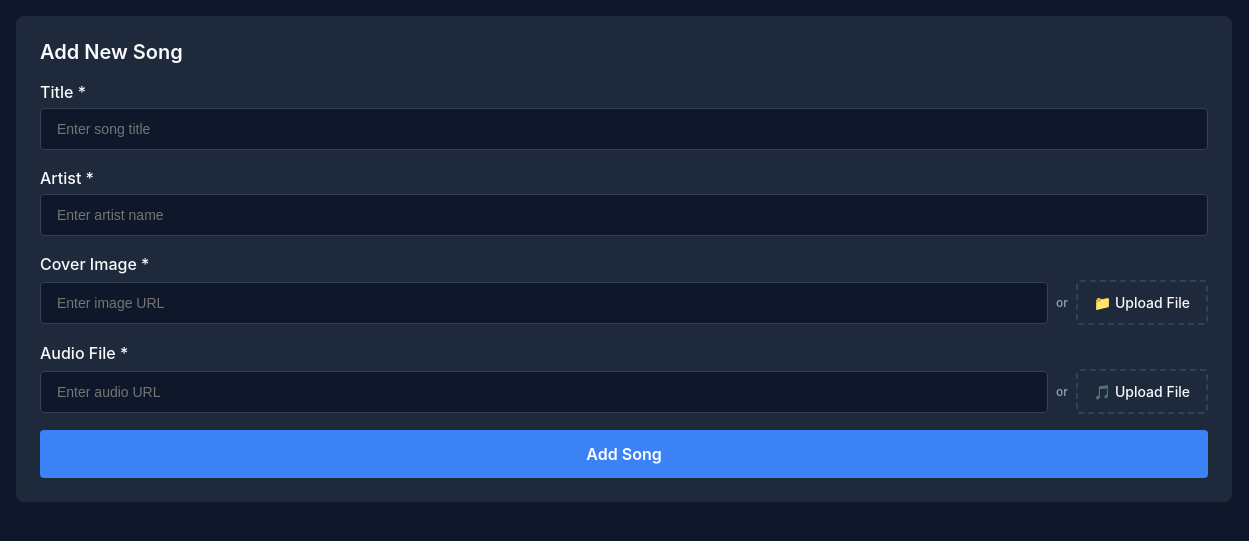
Test: AddSongForm Component › Form Validation - Errors › should show error when both cover URL and file are missing
The image size is (1249, 541).
In the field labelled "Title *": (624, 129) [40,108,1208,150], type "Song"
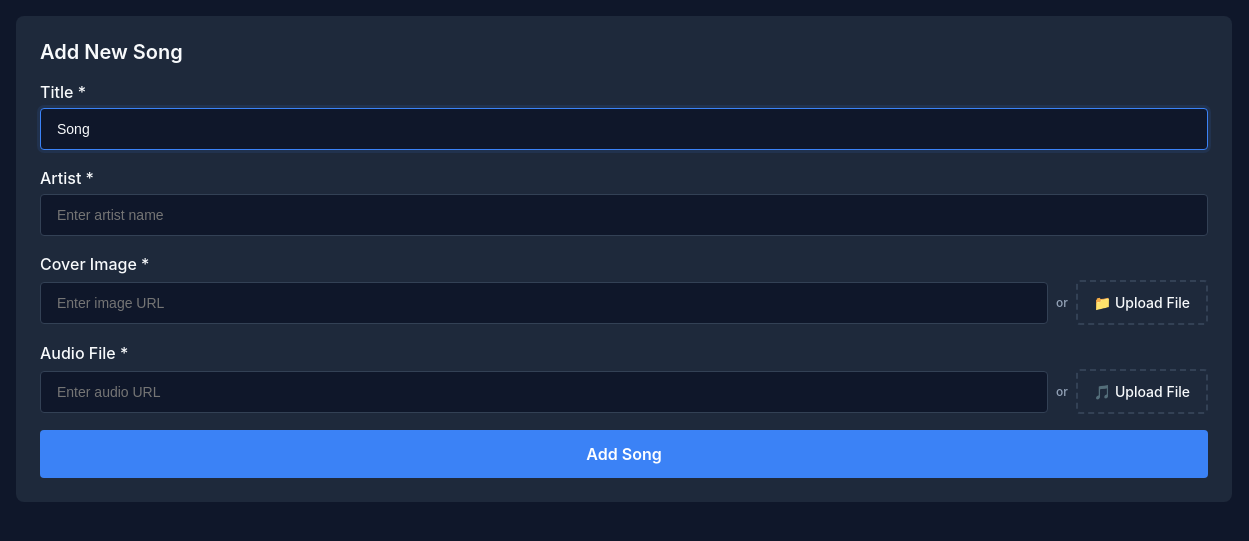
In the field labelled "Artist *": (624, 215) [40,194,1208,236], type "Artist"
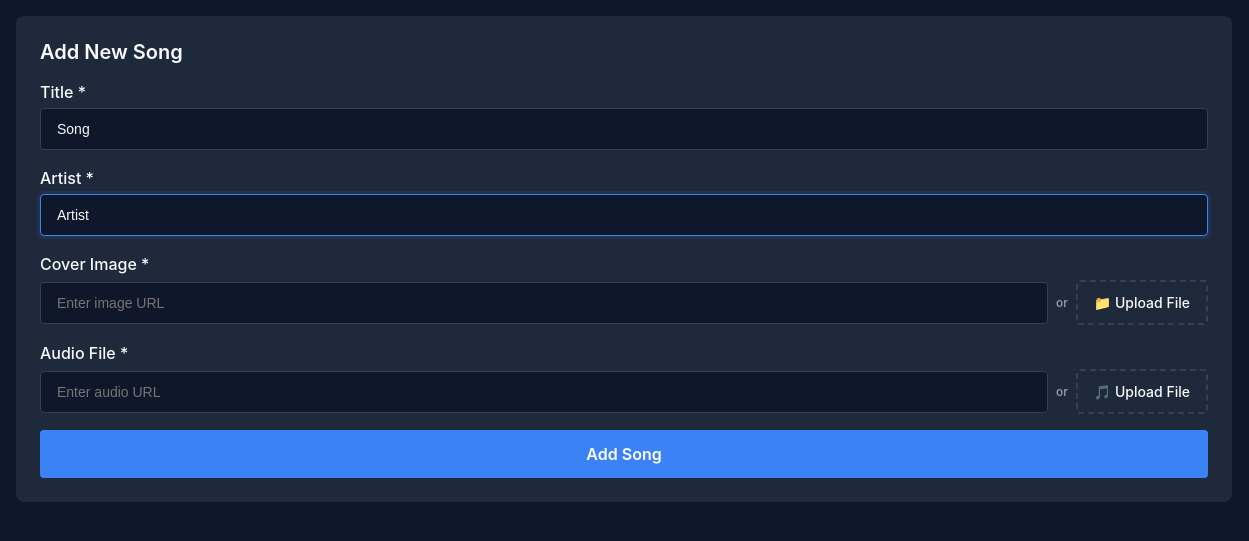
In the field labelled "Audio File *": (544, 392) [40,370,1048,412], type "https://example.com/song.mp3"
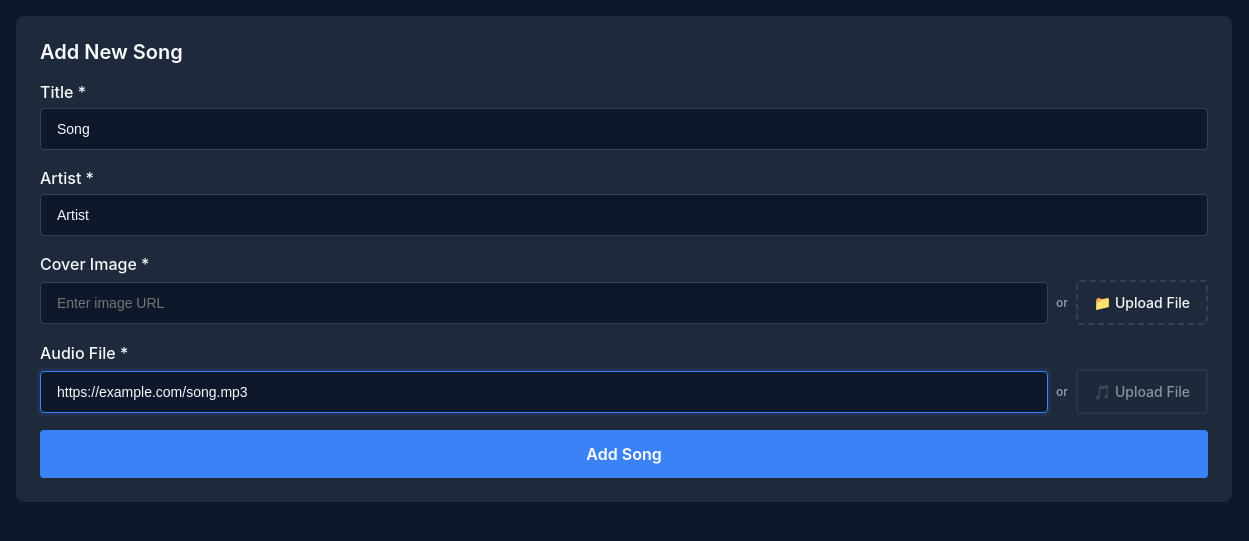
Click the button "Add Song": (624, 454) [40,430,1208,478]
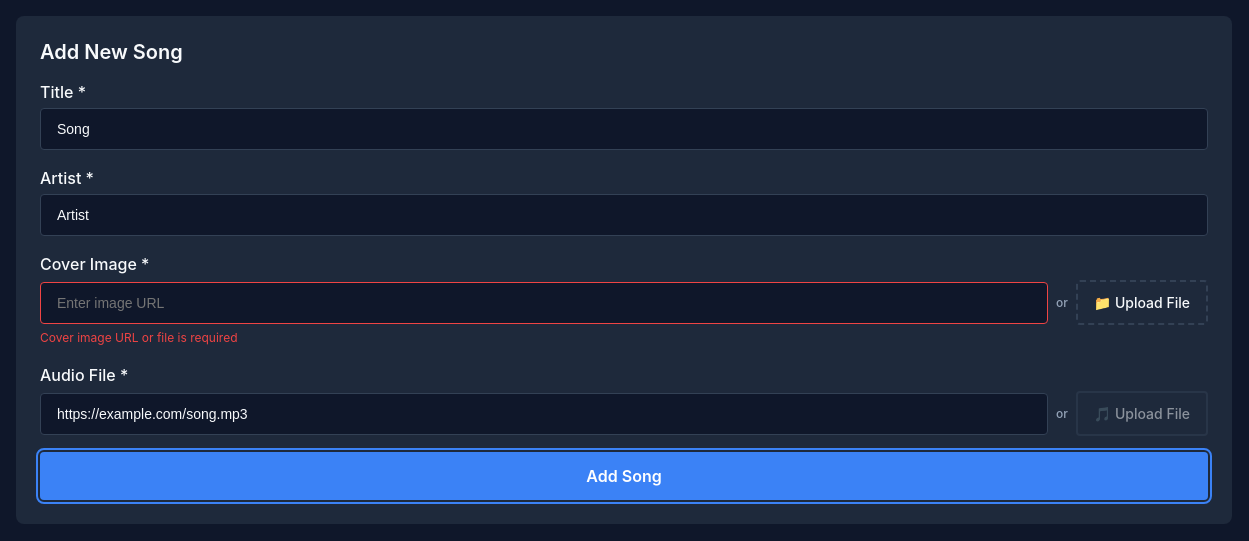
Check: the text "Cover image URL or file is required" is shown, box [40,330,238,345]
